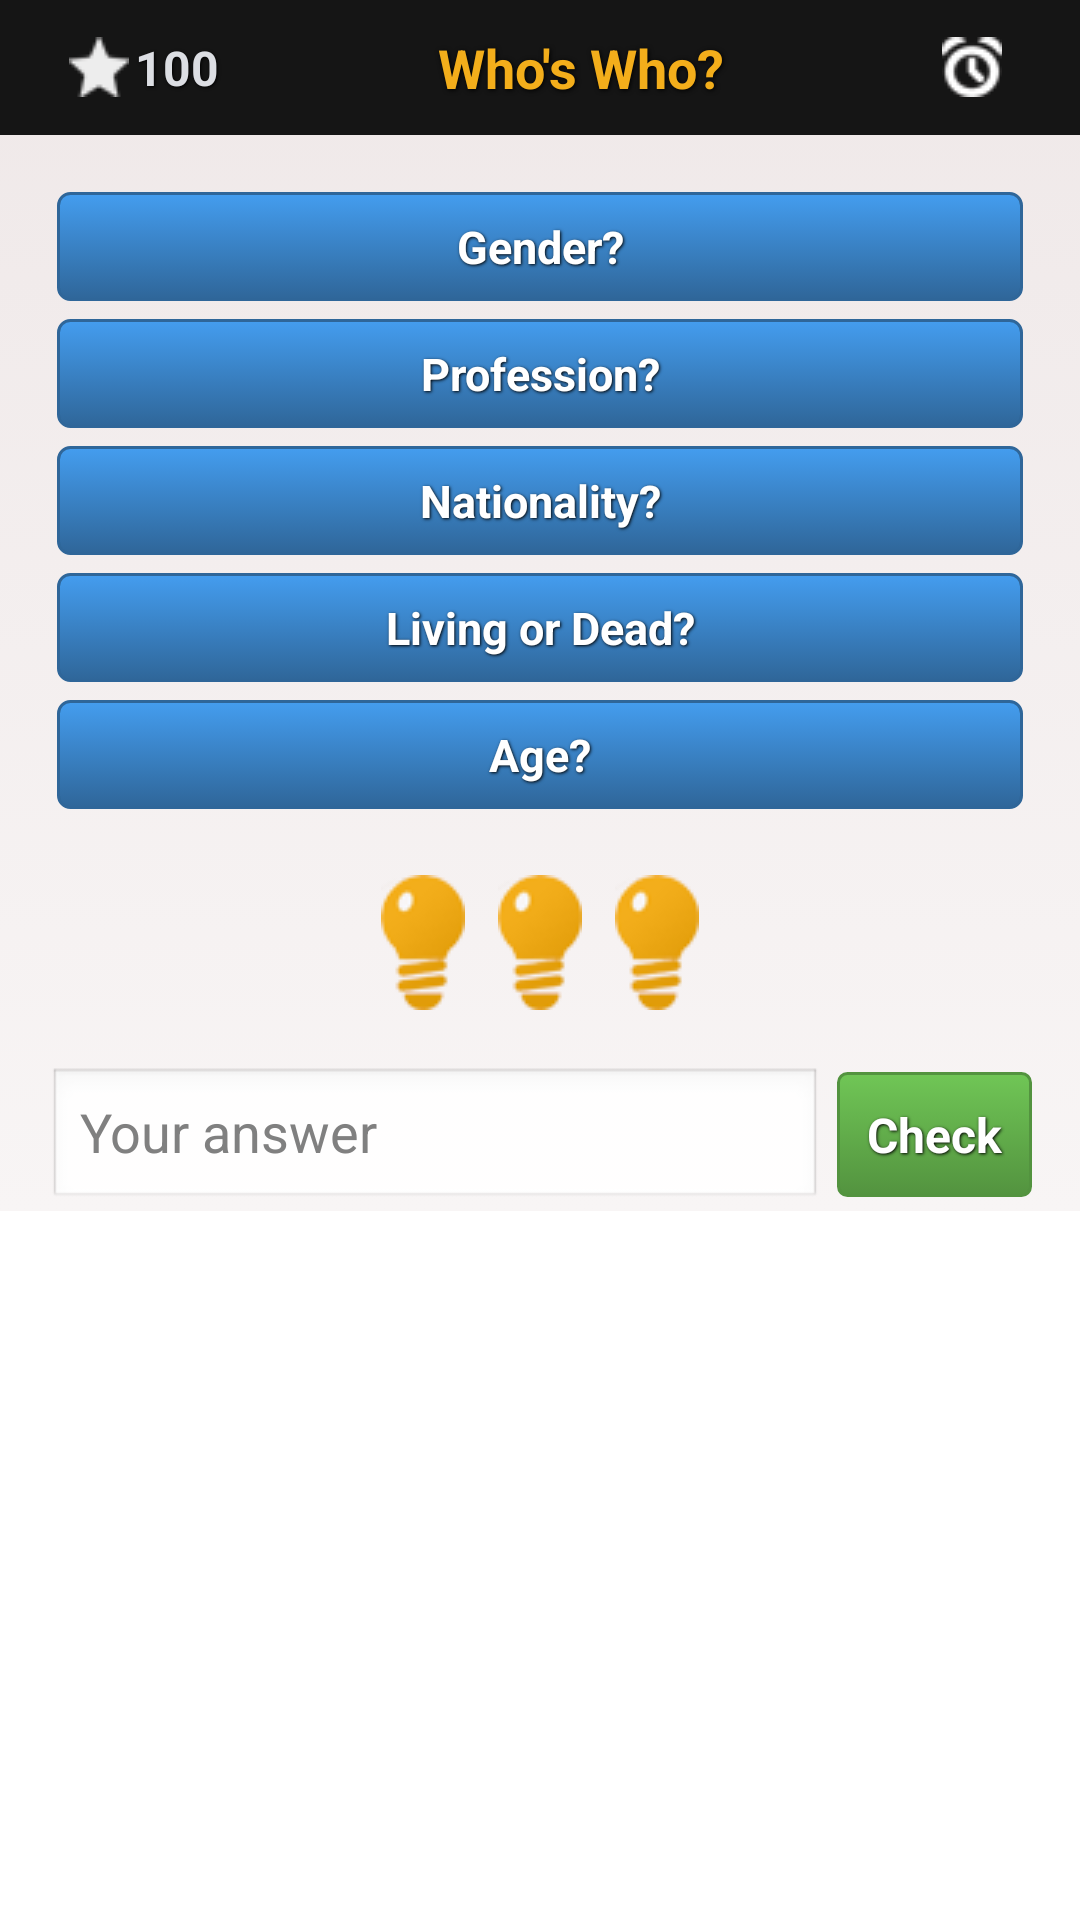

Named icons in this screenshot (1080px x 1920px) and their centers, (x,y):
hint1: (423,942)
